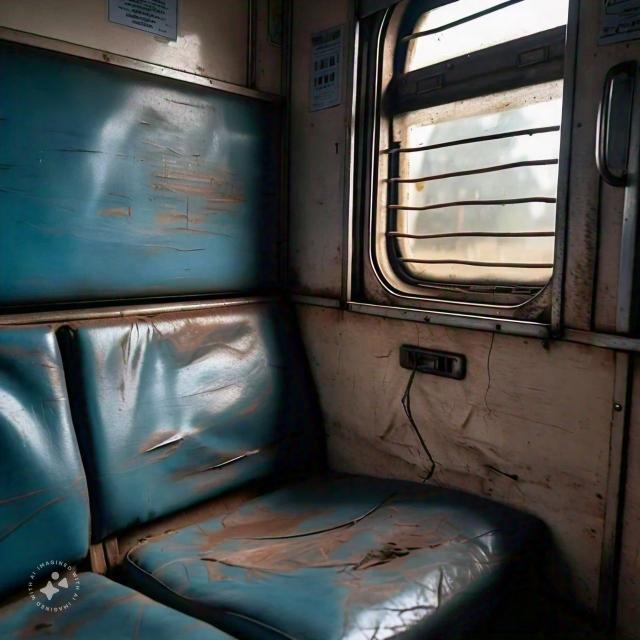Charging_Points: (385, 329, 482, 390)
Interior_Cleanliness: (9, 289, 528, 640)
